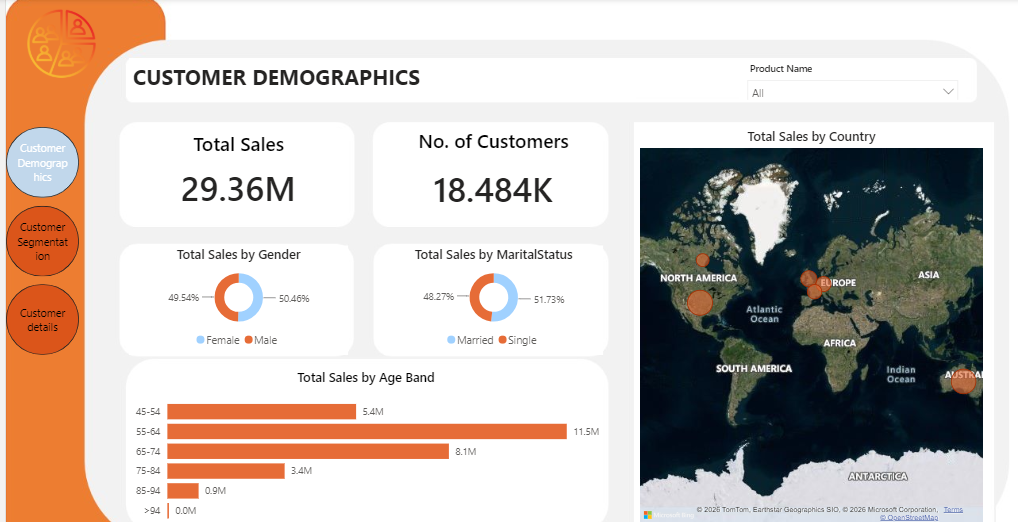

The dashboard page shown, as its layout file describes it:
{"tool":"powerbi","page":{"name":"Customer Demographics","canvas":[1280,720],"ordinal":0},"visuals":[{"type":"cardVisual","title":"Total Sales","fields":{"Data":["Sum(FactInternetSales.SalesAmount)"]},"box":[155,166.3,275.9,109.6],"z":0},{"type":"cardVisual","title":"No. of Customers","fields":{"Data":["Count(FactInternetSales.CustomerKey)"]},"box":[476.2,162.5,275.9,119.1],"z":1000},{"type":"donutChart","fields":{"Y":["Sum(FactInternetSales.SalesAmount)"],"Category":["DimCustomer.Gender"]},"box":[155,311.8,275.9,138],"z":2000},{"type":"donutChart","fields":{"Y":["Sum(FactInternetSales.SalesAmount)"],"Category":["DimCustomer.MaritalStatus"]},"box":[476.2,311.8,275.9,138],"z":3000},{"type":"barChart","title":"Total Sales by Age Band","fields":{"Category":["Age Sort.Age Band"],"Y":["Sum(FactInternetSales.SalesAmount)"]},"box":[155,466.8,597.2,204.1],"z":4000},{"type":"map","fields":{"Category":["DimGeography.Country"],"Size":["Sum(FactInternetSales.SalesAmount)"]},"box":[793.7,162.5,442.2,508.4],"z":5000},{"type":"textbox","box":[155,75.6,638.7,52.9],"z":6000},{"type":"slicer","fields":{"Values":["DimProduct.Product Name"]},"box":[924.1,75.6,285.4,52.9],"z":7000},{"type":"pageNavigator","box":[0,162.5,92.6,287.2],"z":8000},{"type":"image","box":[18.9,13.2,102,88.8],"z":9000}]}

Visuals, with their boxes on the page's 1280x720 design canvas (x1, y1, x2, y2). These are canvas units, not pixel positions in the 1018x522 screenshot, which may show the page scaled, cropped or inside an application window:
"Total Sales" cardVisual: pyautogui.locateOnScreen(155, 166, 431, 276)
"No. of Customers" cardVisual: pyautogui.locateOnScreen(476, 162, 752, 282)
donutChart - Sum(FactInternetSales.SalesAmount) x DimCustomer.Gender: pyautogui.locateOnScreen(155, 312, 431, 450)
donutChart - Sum(FactInternetSales.SalesAmount) x DimCustomer.MaritalStatus: pyautogui.locateOnScreen(476, 312, 752, 450)
"Total Sales by Age Band" barChart: pyautogui.locateOnScreen(155, 467, 752, 671)
map - DimGeography.Country x Sum(FactInternetSales.SalesAmount): pyautogui.locateOnScreen(794, 162, 1236, 671)
textbox: pyautogui.locateOnScreen(155, 76, 794, 128)
slicer - DimProduct.Product Name: pyautogui.locateOnScreen(924, 76, 1210, 128)
pageNavigator: pyautogui.locateOnScreen(0, 162, 93, 450)
image: pyautogui.locateOnScreen(19, 13, 121, 102)
